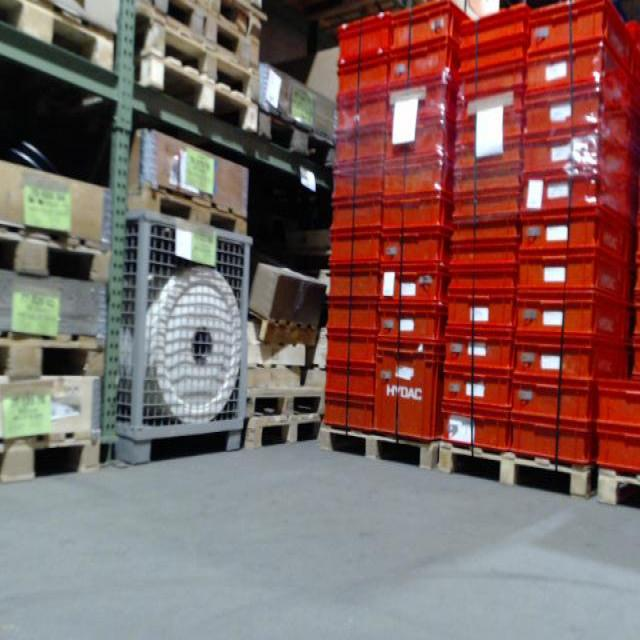pallet: (139, 54, 260, 139), (437, 441, 593, 501), (140, 17, 255, 94), (126, 179, 246, 238), (0, 223, 114, 284), (149, 3, 256, 58), (323, 422, 440, 472), (258, 106, 336, 175), (0, 332, 106, 381), (0, 432, 102, 482), (243, 414, 324, 451), (244, 388, 327, 418), (596, 466, 640, 513)
small_load_carrier: (520, 40, 630, 139), (527, 0, 635, 66), (372, 340, 442, 440), (526, 290, 623, 337), (524, 211, 624, 255), (514, 374, 596, 424), (514, 337, 623, 373), (521, 139, 626, 176), (334, 13, 394, 77), (523, 255, 624, 290), (524, 178, 629, 211), (508, 424, 592, 465), (440, 367, 511, 412), (394, 1, 466, 45), (381, 123, 457, 163), (378, 305, 439, 354), (440, 412, 505, 456), (379, 232, 450, 271), (379, 195, 452, 232), (375, 271, 450, 307), (389, 45, 452, 87), (334, 54, 389, 101), (389, 87, 457, 123), (447, 328, 511, 366), (593, 379, 638, 433), (381, 161, 452, 195), (330, 130, 391, 168), (448, 191, 523, 221), (456, 140, 524, 173), (454, 37, 528, 67), (328, 199, 382, 238), (458, 8, 530, 37), (592, 433, 638, 478), (447, 265, 514, 294), (454, 67, 528, 93), (328, 238, 378, 276), (447, 299, 511, 328), (324, 367, 372, 405), (456, 93, 528, 118), (324, 396, 375, 430), (448, 221, 520, 245), (327, 308, 379, 340), (327, 276, 378, 308), (334, 101, 391, 128), (456, 118, 524, 140), (331, 171, 379, 202), (324, 340, 379, 367), (447, 246, 519, 265), (456, 173, 523, 191)
stillage: (108, 203, 254, 471)
